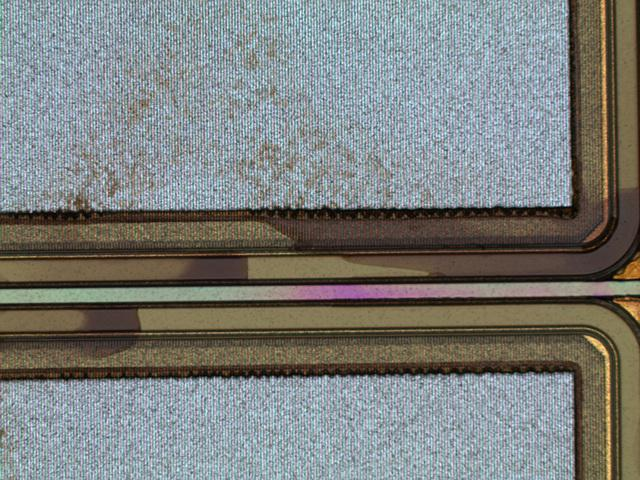SEZ BURNT: (59, 1, 640, 365)
